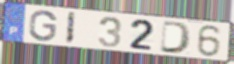2: (127, 19, 156, 52)
3: (98, 16, 124, 48)
6: (195, 24, 224, 58)
D: (159, 20, 194, 55)
G: (28, 9, 59, 43)
I: (64, 11, 77, 46)
